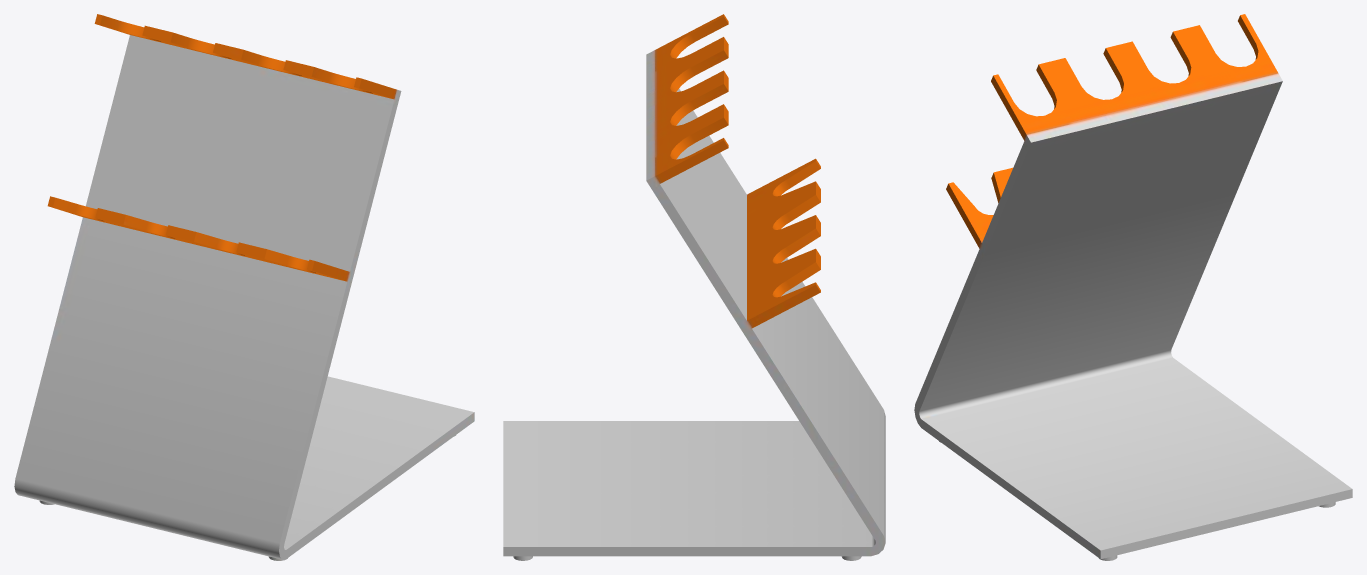
The model's file is pipetteholder.fbx.
3 views of the same model, side by side, from view 1: azimuth 30°, elevation 25°; view 2: azimuth 150°, elevation 25°; view 3: azimuth 270°, elevation 25° (orthographic). The views are drawn at different scales.
Visible parts, largest first — view 1: PipetteHolder; view 2: PipetteHolder; view 3: PipetteHolder.
Boxes of the visible parts, left/top/right/bottom form: PipetteHolder: left=14, top=14, right=474, bottom=560; PipetteHolder: left=503, top=14, right=885, bottom=560; PipetteHolder: left=914, top=14, right=1352, bottom=560.
Bounding box in the file's own units: 26.12 × 25.49 × 24.46.
1 material, 1 textured.
